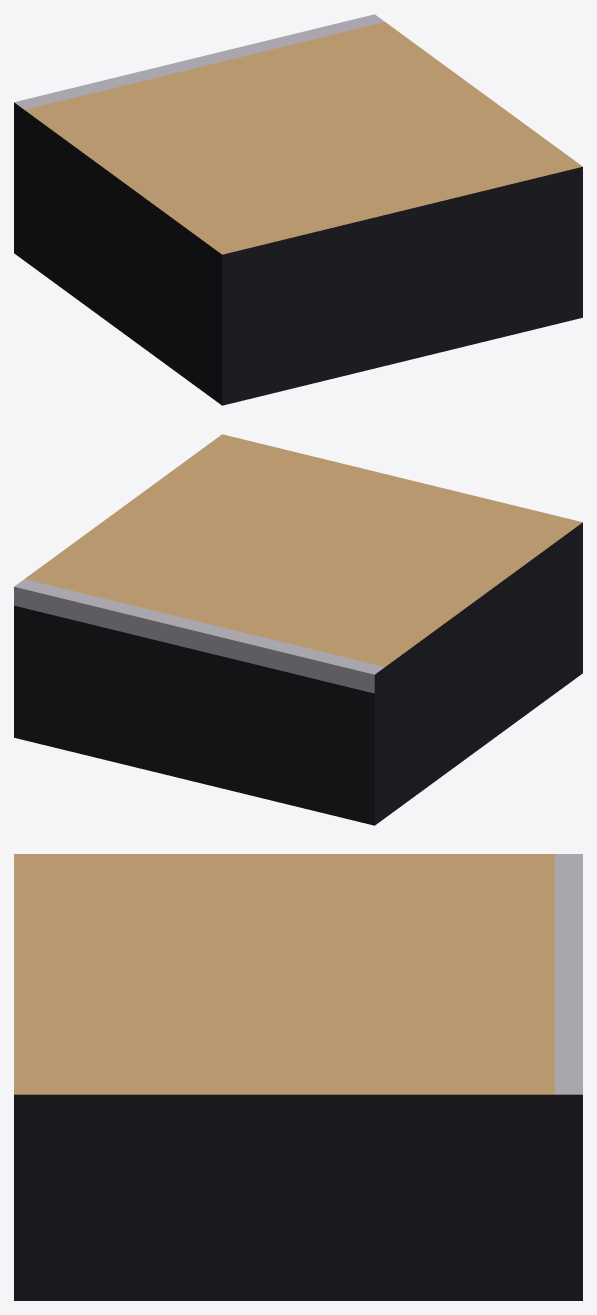
The model's file is ManPad_4.fbx.
The picture shows the model from 3 angles, top to bottom: view 1: azimuth 30°, elevation 25°; view 2: azimuth 150°, elevation 25°; view 3: azimuth 270°, elevation 25°; orthographic projection. The views are drawn at different scales.
Visible parts, largest first — view 1: ManPad_4; view 2: ManPad_4; view 3: ManPad_4.
Boxes of the visible parts, x1,y1,x2,y2 form: ManPad_4: (14, 14, 582, 405); ManPad_4: (14, 434, 582, 825); ManPad_4: (14, 854, 582, 1300).
Bounding box in the file's own units: 10 × 4 × 10.
